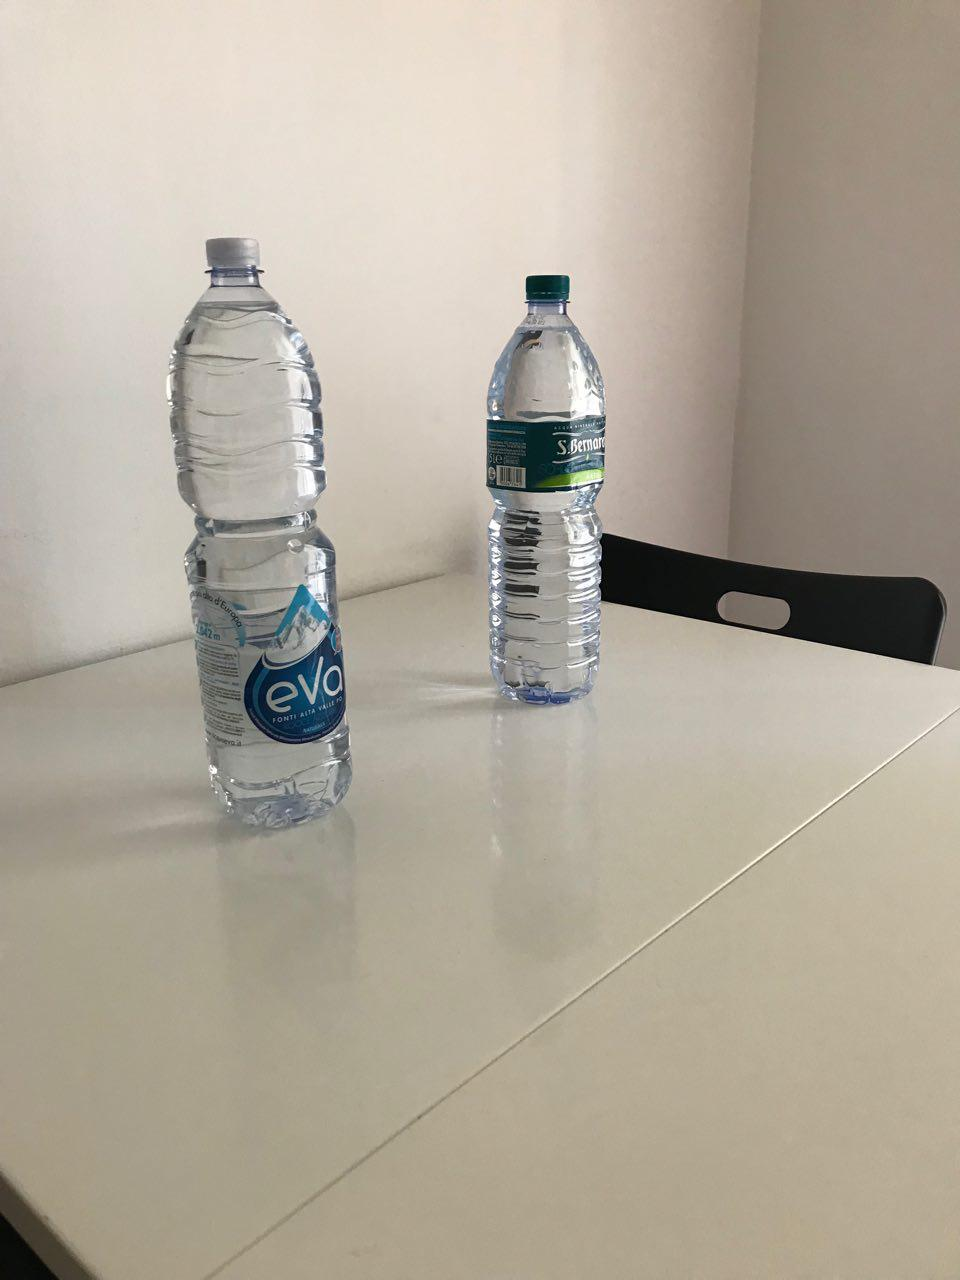san_bernardo: (485, 273, 607, 707)
